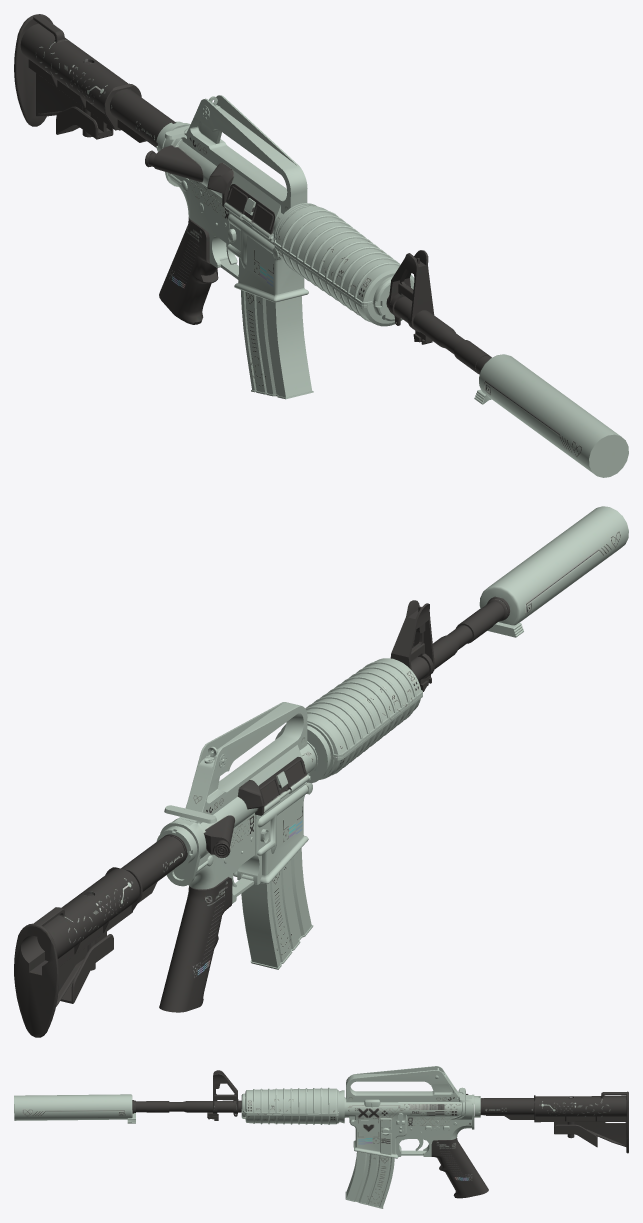
Rendered from m4a1s-printstream.glb.
3 renders of one model, top to bottom at view 1: azimuth 30°, elevation 25°; view 2: azimuth 150°, elevation 25°; view 3: azimuth 270°, elevation 25°, orthographic. The views are drawn at different scales.
Parts seen in each view (by area): view 1: m4a1s-printstream; view 2: m4a1s-printstream; view 3: m4a1s-printstream.
Boxes of the visible parts, x1,y1,x2,y2 form: m4a1s-printstream: (14,14,628,477); m4a1s-printstream: (14,506,628,1037); m4a1s-printstream: (14,1066,628,1208).
Bounding box in the file's own units: 0.0911 × 0.2967 × 1.21.
1 material, 1 textured.
